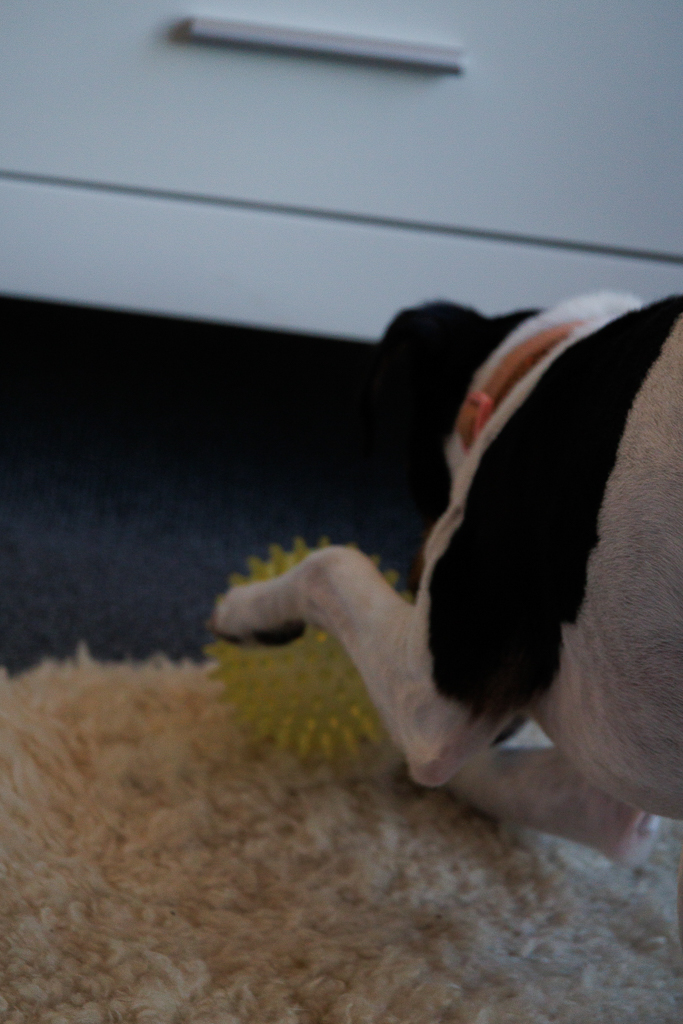Dog: (194, 261, 682, 895)
